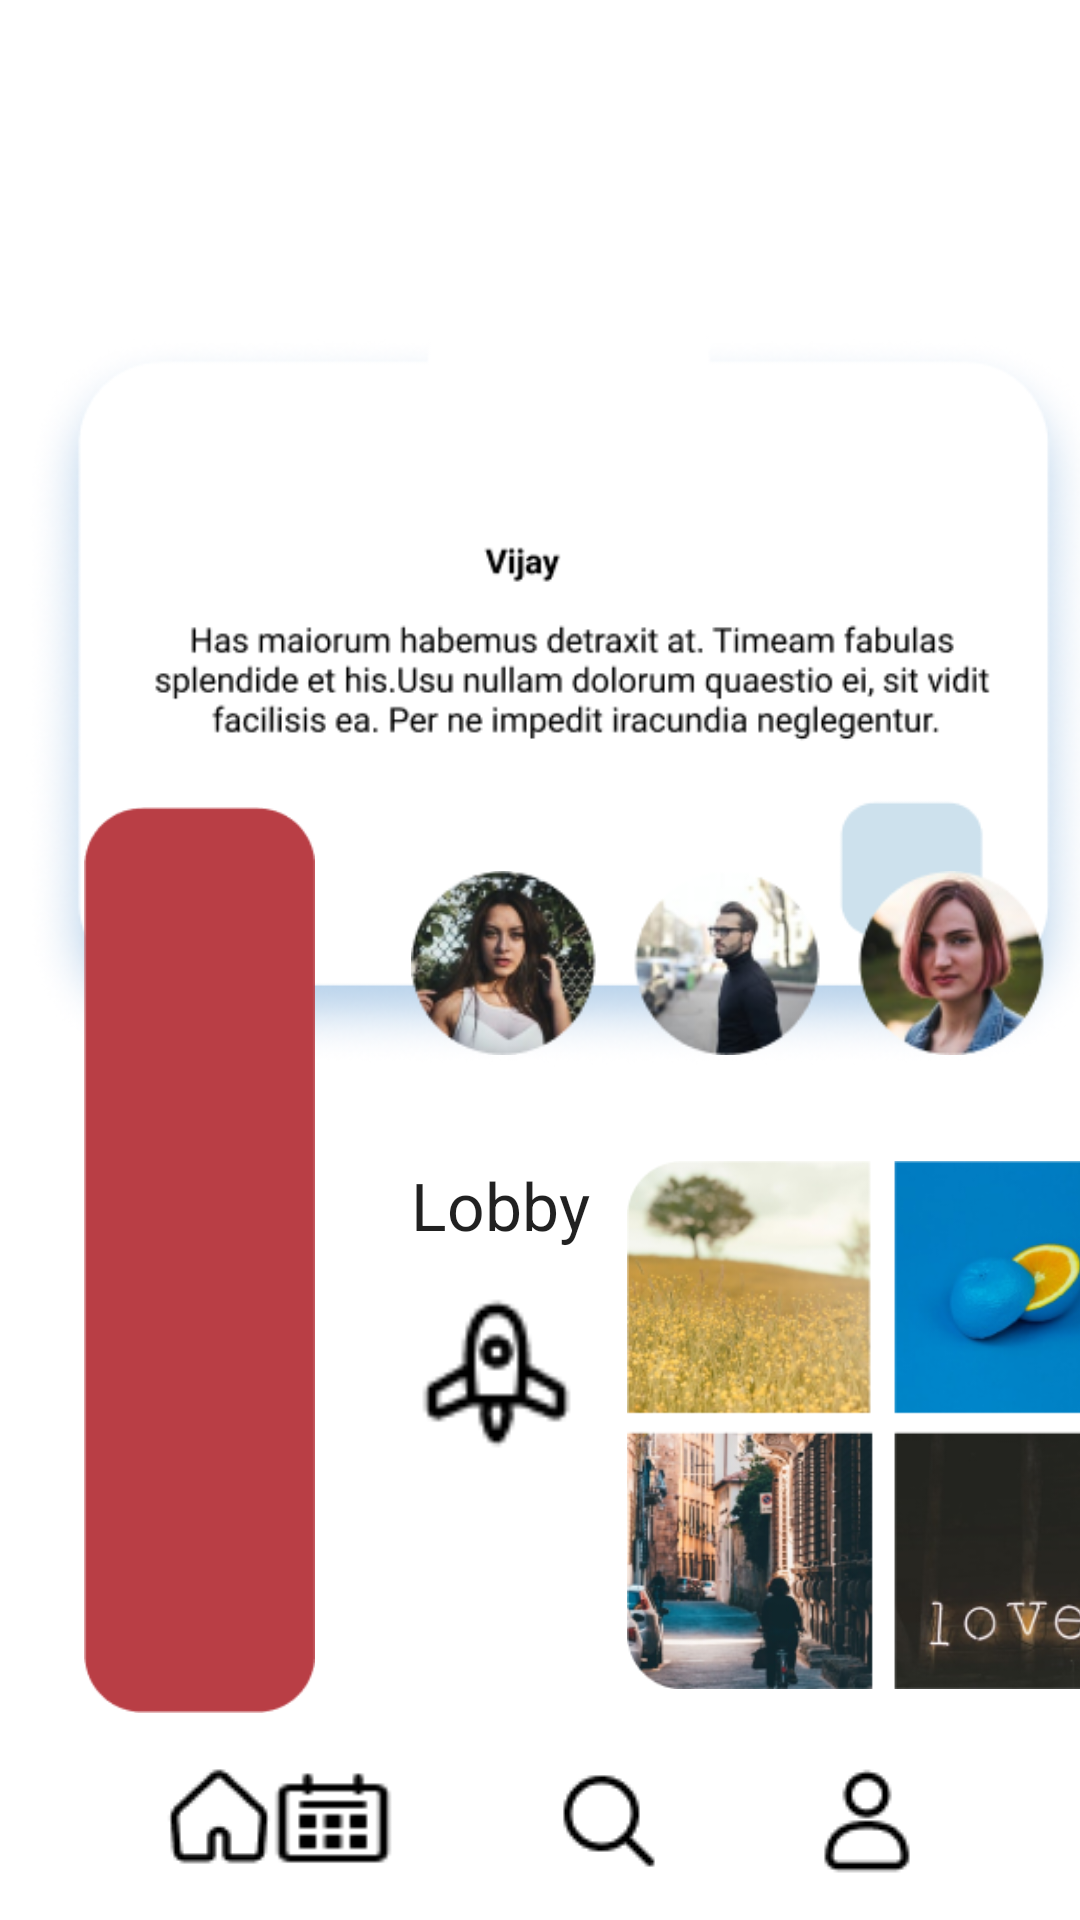

Locate icon controls on the screen. Image size 1080x1920, boxes as [left=x1, top=y1, right=x2, bottom=y2].
calendar: [left=275, top=1773, right=391, bottom=1863]
home: [left=170, top=1769, right=268, bottom=1864]
rocket: [left=423, top=1300, right=570, bottom=1446]
search: [left=563, top=1775, right=655, bottom=1867]
